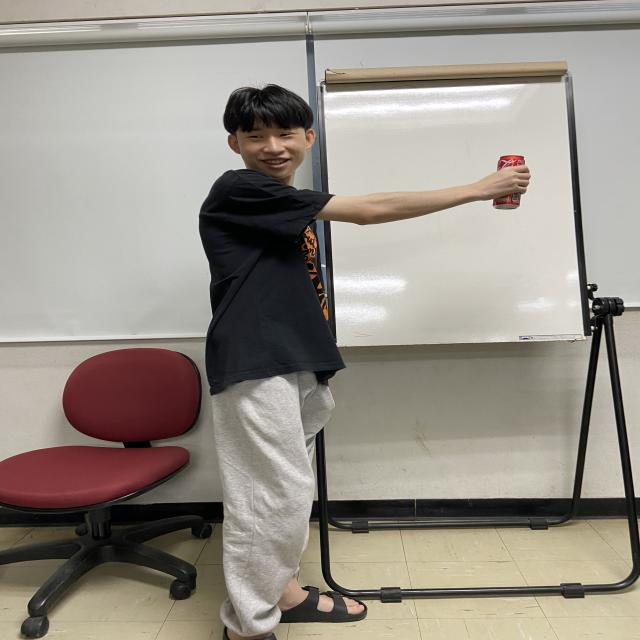can: (489, 153, 527, 211)
